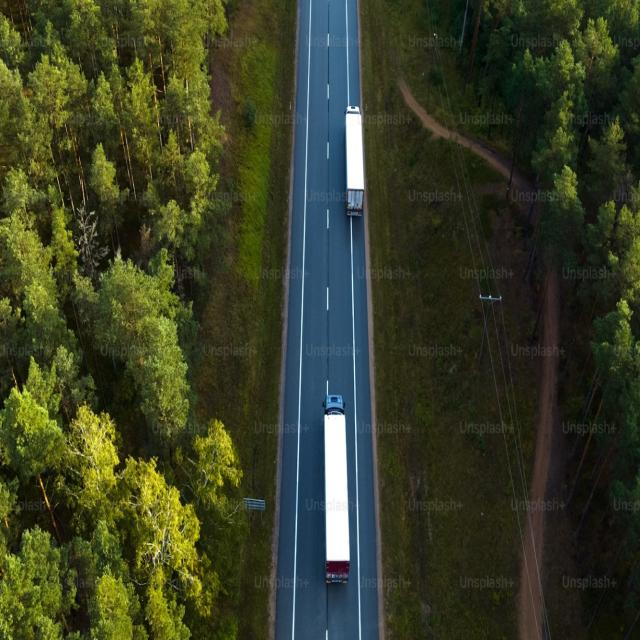truck: (322, 392, 352, 586), (343, 104, 365, 217)
